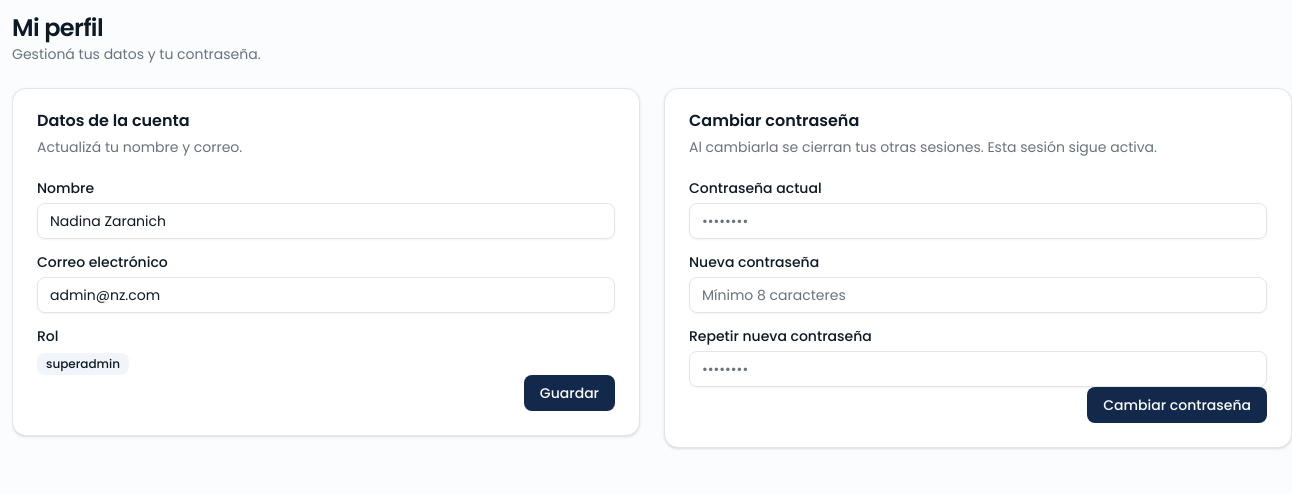
ProfilePage › muestra el error de campo ante un 422 (contraseña actual incorrecta)
This screenshot has width=1292, height=494.
Type "incorrecta" into the password field labelled "Contraseña actual" at (978, 221), box [689,203,1267,239]
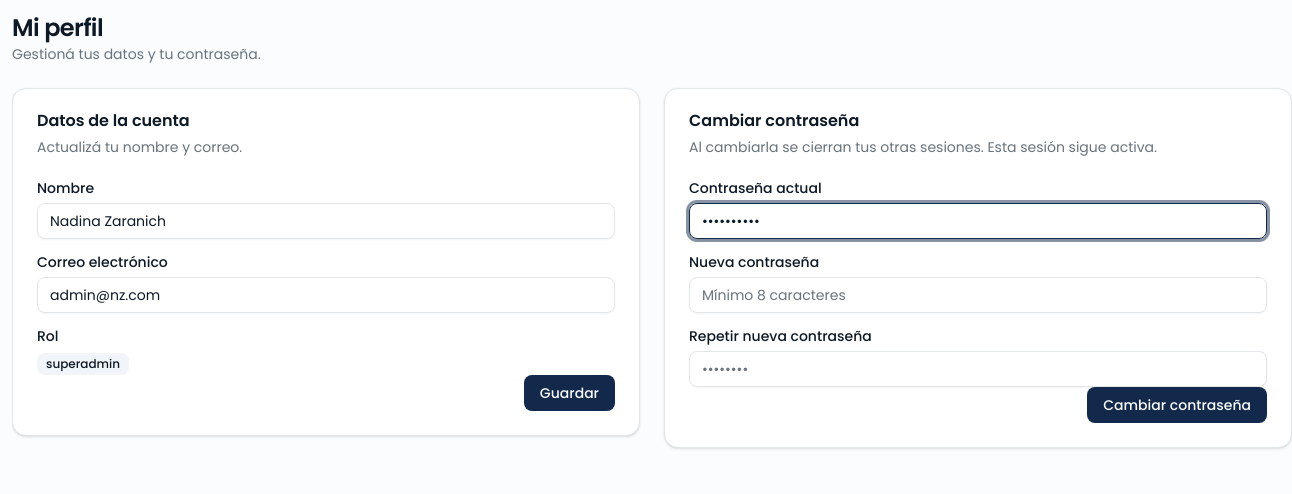
Type "nueva-clave-123" into the password field labelled "Nueva contraseña" at (978, 295), box [689,277,1267,313]
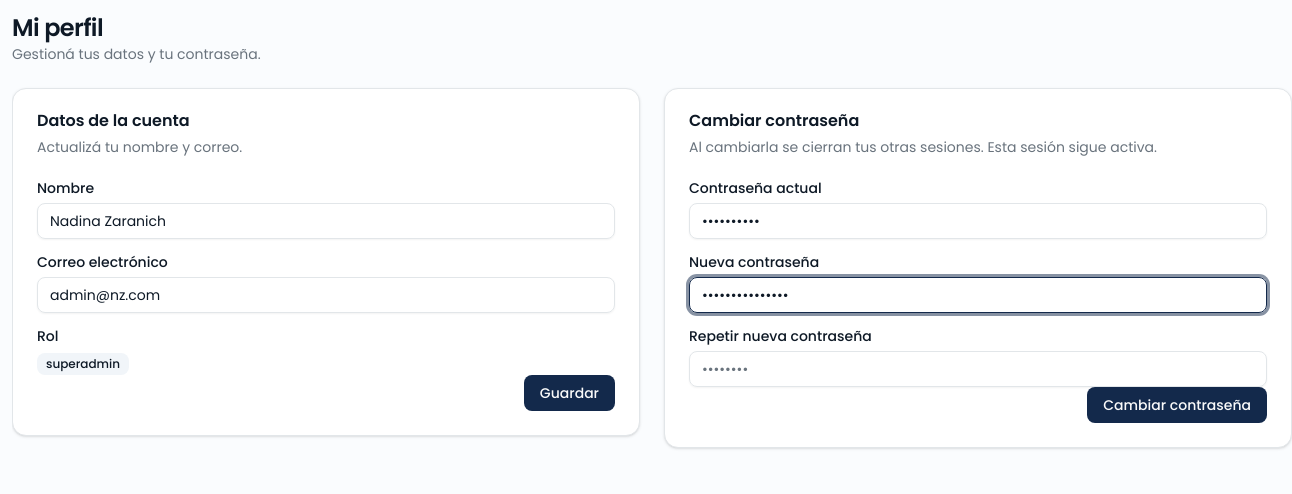
Type "nueva-clave-123" into the password field labelled "Repetir nueva contraseña" at (978, 369), box [689,351,1267,387]
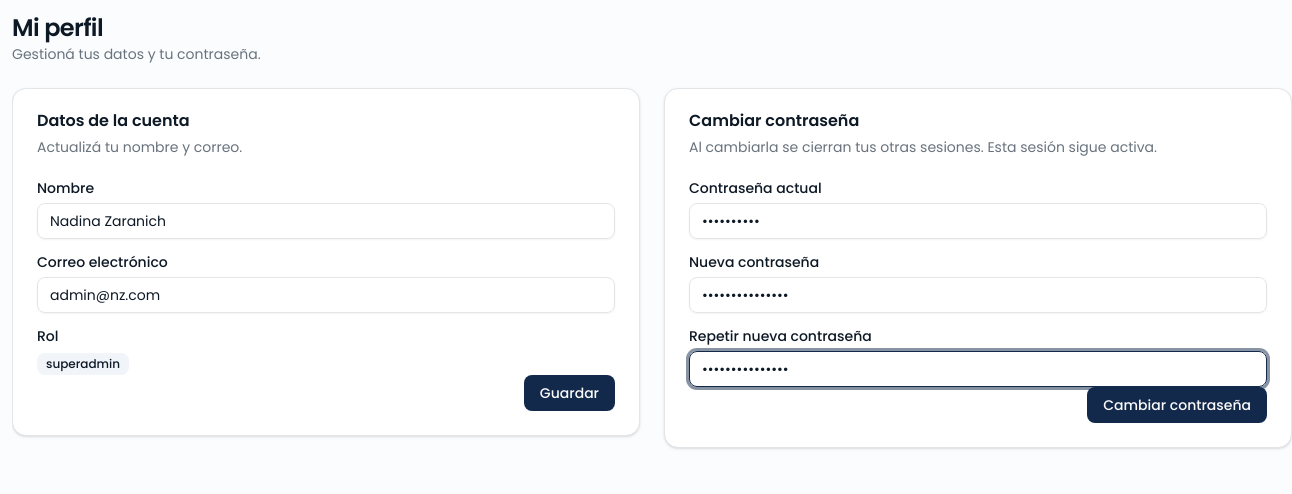
Click the button "Cambiar contraseña" at (1177, 405), box [1087,387,1267,423]
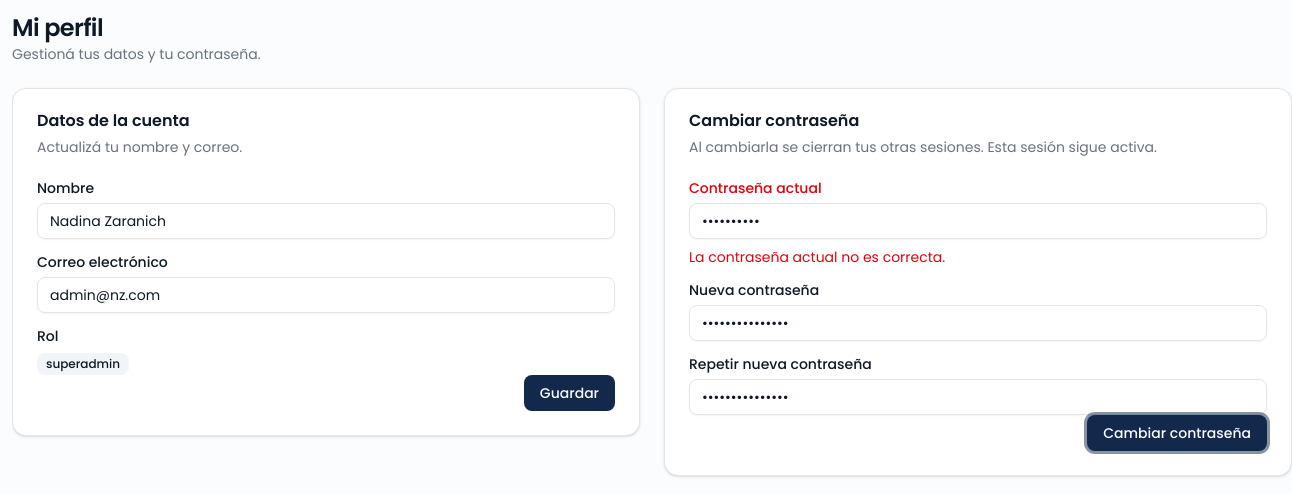
Expected: the text "La contraseña actual no es correcta." is shown, [689,247,945,267]
